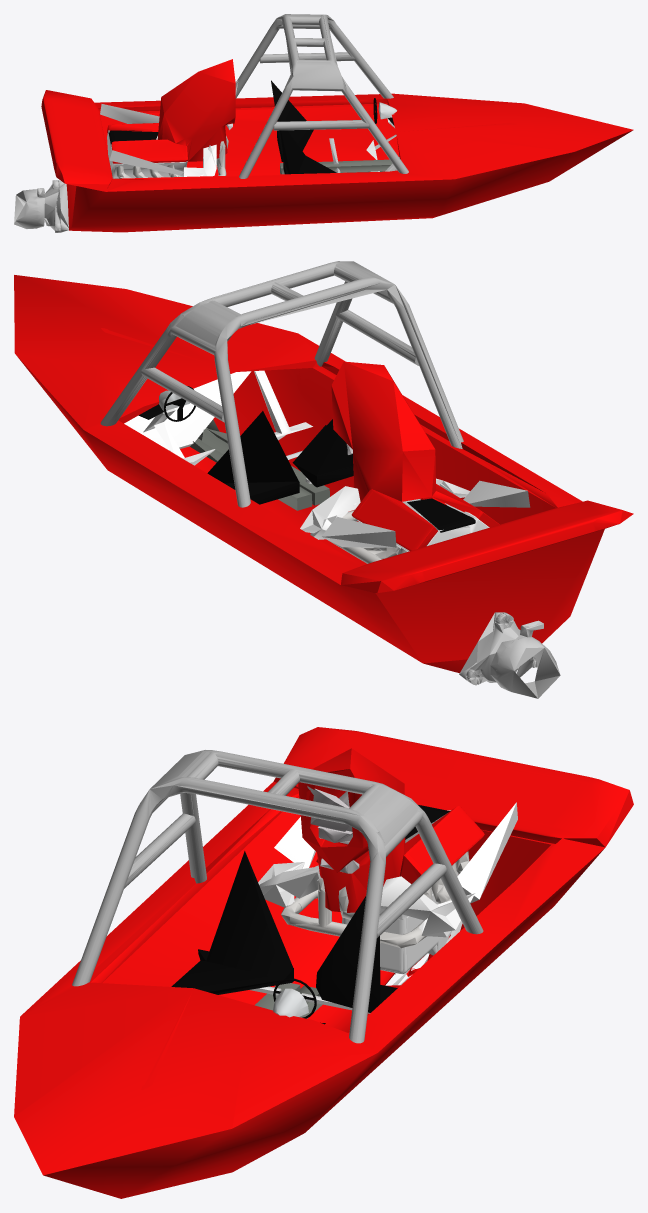
Rendered from sprint_boat.glb.
3 views of the same model, one above another, from view 1: azimuth 30°, elevation 25°; view 2: azimuth 150°, elevation 25°; view 3: azimuth 270°, elevation 25° (orthographic). The views are drawn at different scales.
Parts seen in each view (by area): view 1: Object_8, Object_10, Object_14, Object_2, Object_11, Object_12, Object_6, Object_5; view 2: Object_8, Object_10, Object_11, Object_14, Object_2, Object_13, Object_12, Object_5, Object_6; view 3: Object_8, Object_10, Object_11, Object_14, Object_6, Object_4, Object_7.
Part boxes in pixels (box(x1,y1,x2,y2)): Object_8: box(41, 59, 633, 232); Object_10: box(235, 14, 408, 178); Object_14: box(100, 104, 216, 178); Object_2: box(14, 180, 68, 232); Object_11: box(271, 80, 394, 174); Object_12: box(280, 159, 392, 174); Object_6: box(116, 136, 228, 178); Object_5: box(108, 130, 158, 144); Object_8: box(14, 275, 633, 673); Object_10: box(100, 261, 463, 507); Object_11: box(138, 386, 353, 504); Object_14: box(300, 478, 530, 554); Object_2: box(459, 612, 560, 698); Object_13: box(124, 370, 312, 465); Object_12: box(190, 419, 329, 510); Object_5: box(407, 498, 475, 532); Object_6: box(328, 510, 406, 563); Object_8: box(14, 727, 633, 1198); Object_10: box(72, 750, 483, 1043); Object_11: box(171, 851, 397, 1024); Object_14: box(258, 802, 517, 974); Object_6: box(281, 851, 469, 948); Object_4: box(307, 786, 359, 873); Object_7: box(273, 988, 308, 1017).
Bounding box in the file's own units: 132 × 46.41 × 82.65.
